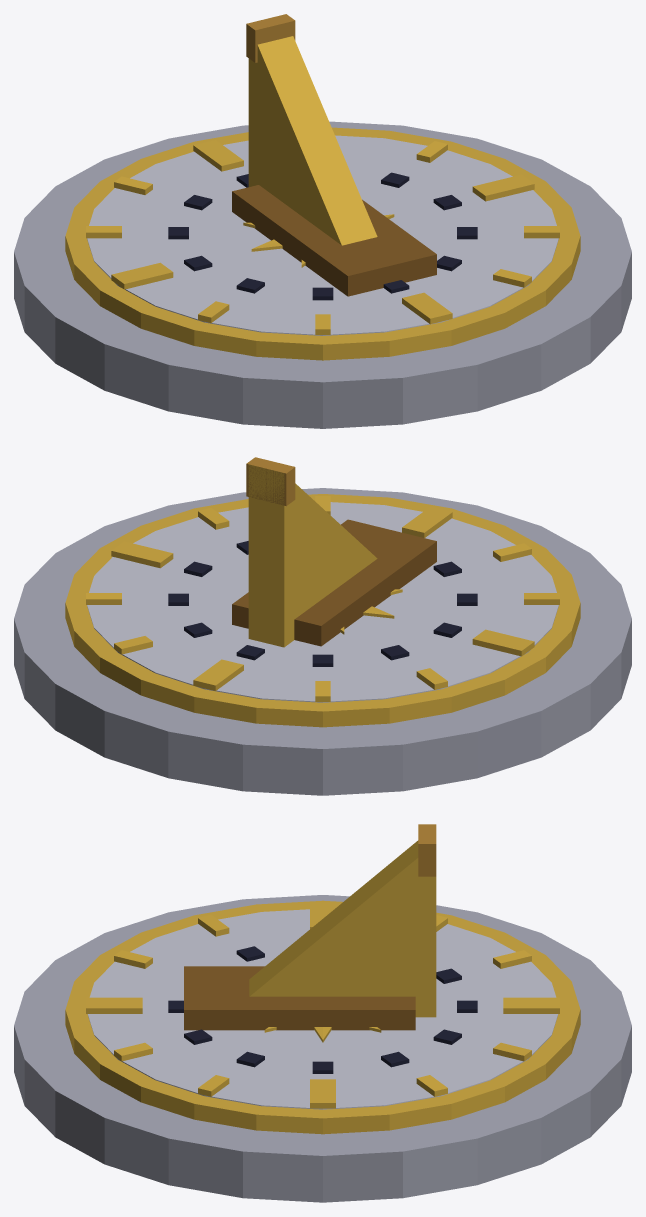
The model's file is Decor_ClockTower_GiantSundial.fbx.
3 views of the same model, one above another, from view 1: azimuth 30°, elevation 25°; view 2: azimuth 150°, elevation 25°; view 3: azimuth 270°, elevation 25° (orthographic).
Parts seen in each view (by area): view 1: GiantSundial_Body; view 2: GiantSundial_Body; view 3: GiantSundial_Body.
Boxes of the visible parts, bbox=[...] form: GiantSundial_Body: bbox=[14, 14, 631, 428]; GiantSundial_Body: bbox=[14, 457, 631, 795]; GiantSundial_Body: bbox=[14, 824, 631, 1202].
Size of the model in its own units: 12 by 5.1 by 12.
